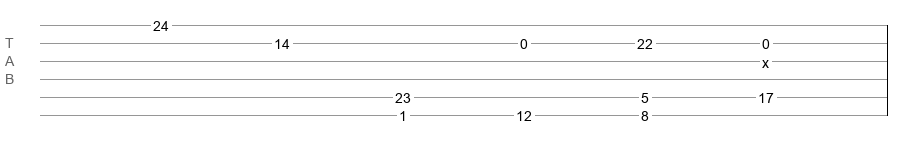0: (520, 36, 528, 46), (762, 36, 770, 46)
1: (399, 108, 407, 118)
12: (516, 108, 532, 118)
14: (274, 36, 290, 46)
17: (758, 90, 774, 100)
22: (637, 36, 653, 46)
23: (395, 90, 411, 100)
24: (153, 18, 169, 28)
5: (641, 90, 649, 100)
8: (641, 108, 649, 118)
x: (762, 55, 769, 63)
